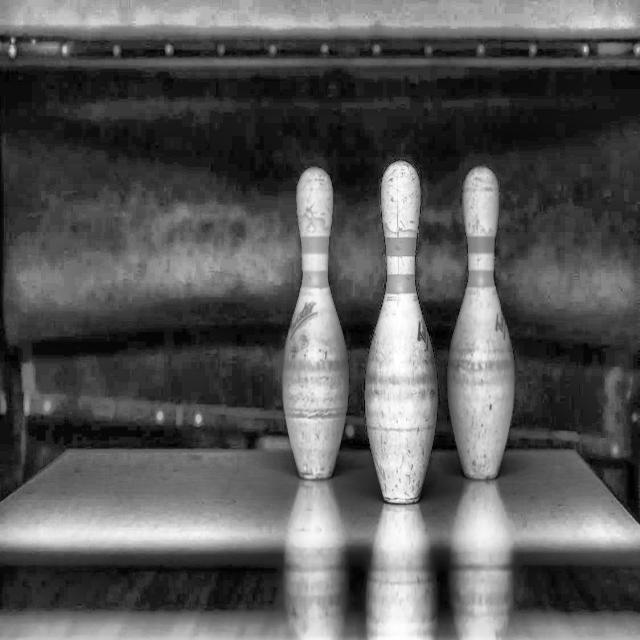bowling-pins: (366, 160, 438, 504), (449, 166, 515, 479), (283, 167, 348, 480)
